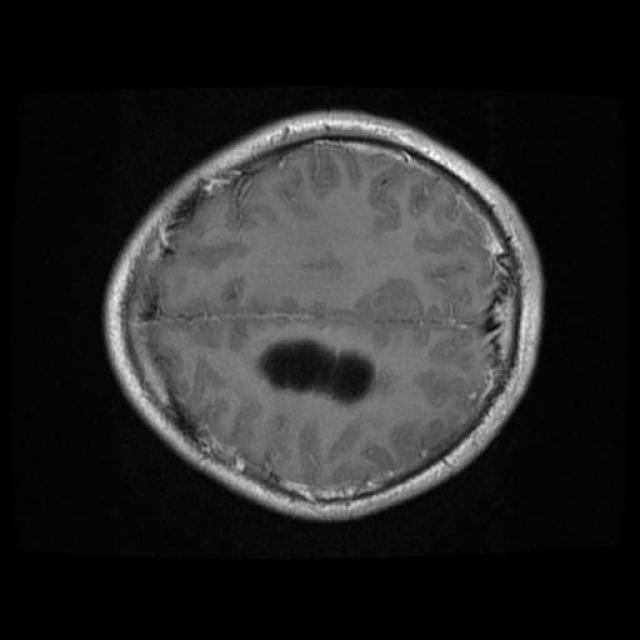Glioma: (259, 339, 373, 402)
